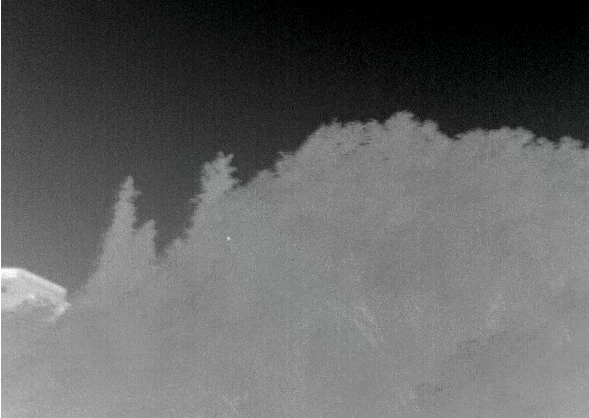dim target: (224, 234, 232, 243)
